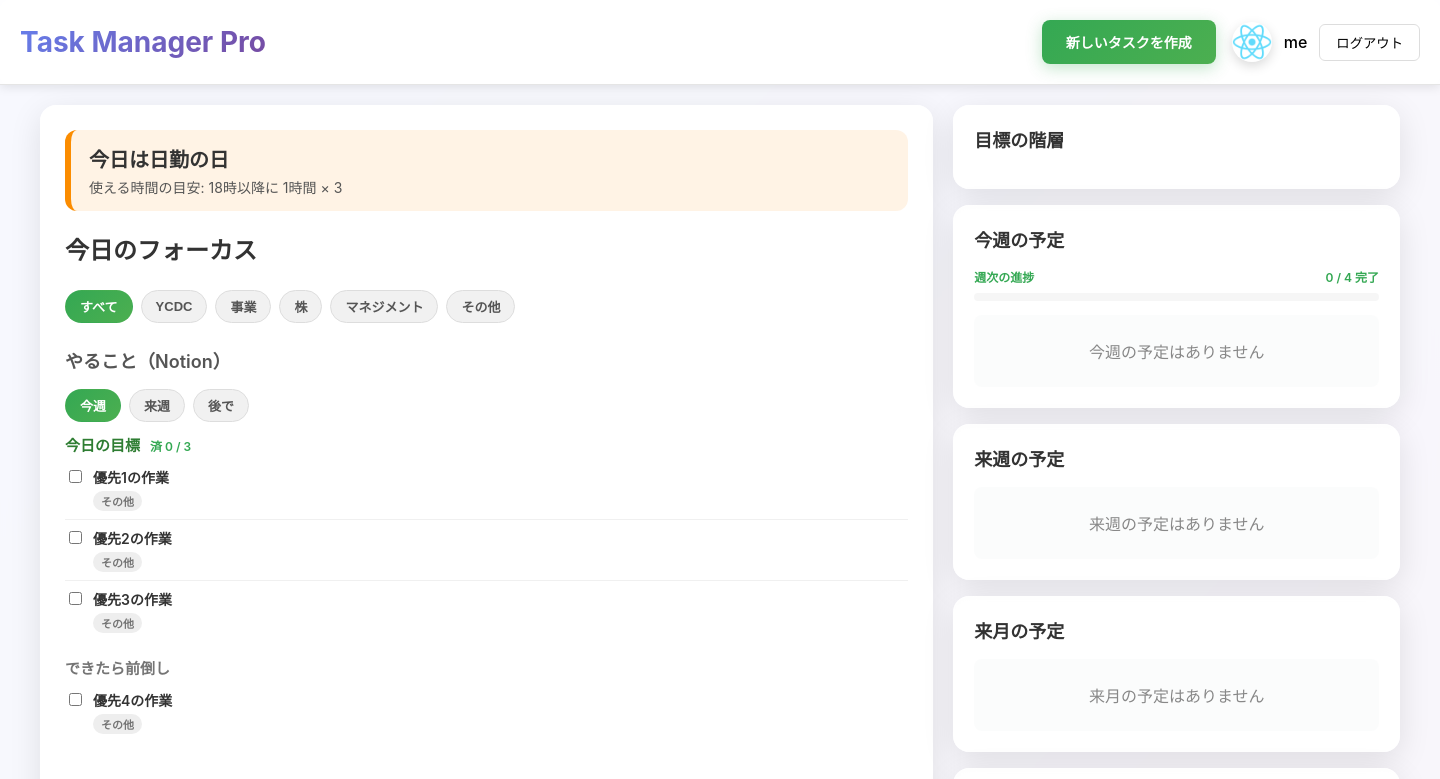
Test: checking rows: a checked row stays in 今日の目標 as done; finishing a 前倒し row counts toward the goal and pushes the next row down
This screenshot has width=1440, height=779.
Expected: the element "今日の目標" is shown, [65,434,908,641]
Step 1. Click the checkbox named "優先1の作業" → coordinates (76, 476), box [69,470,82,483]
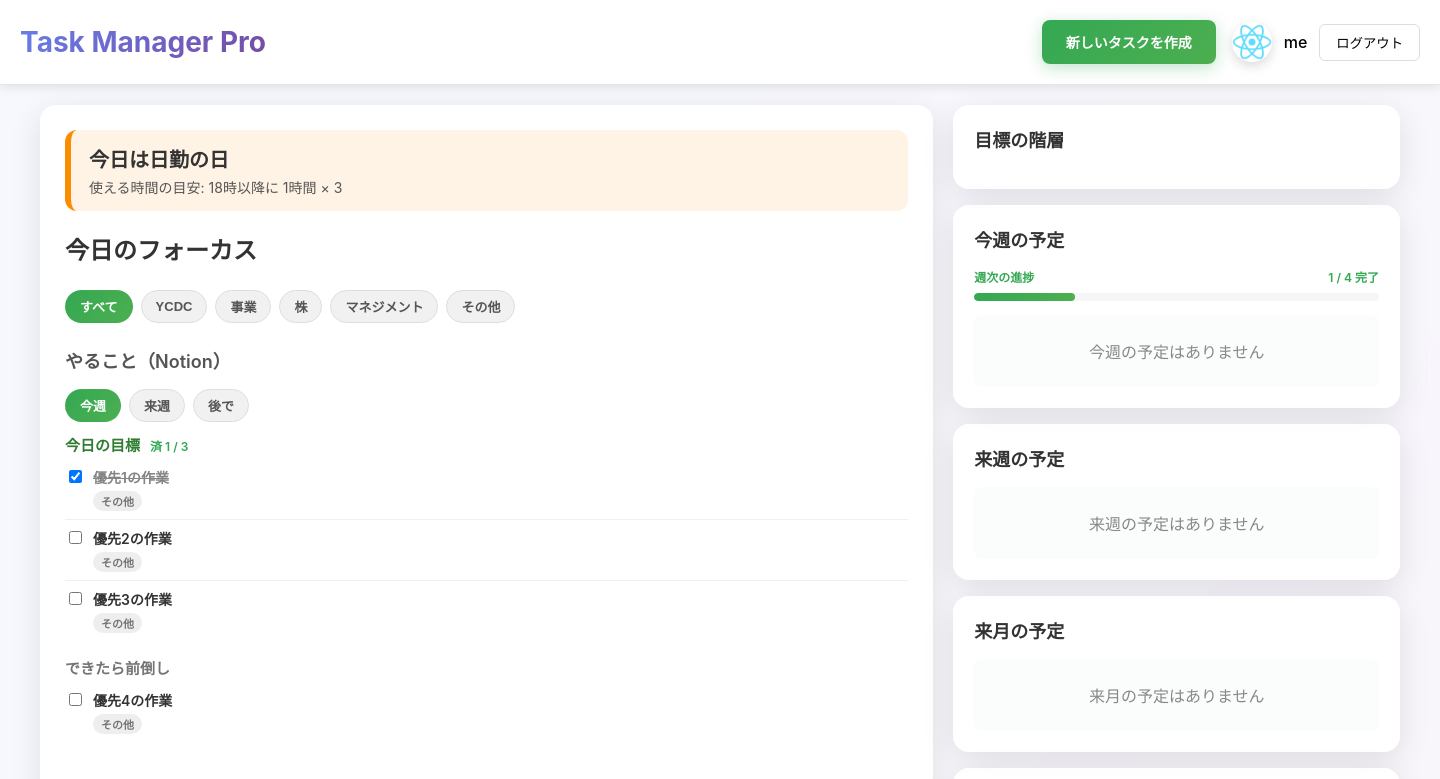
Expected: the text "今日の目標は達成" is not shown
Now the checkbox named "優先1の作業" is checked, box [69,470,82,483]
Now the text "済 1 / 3" is shown, box [150,437,188,454]
前倒しの優先4を済にする: 今日済ませた2件になり、優先3は前倒しへ
Step 2. Click the checkbox named "優先4の作業" → coordinates (76, 700), box [69,693,82,706]
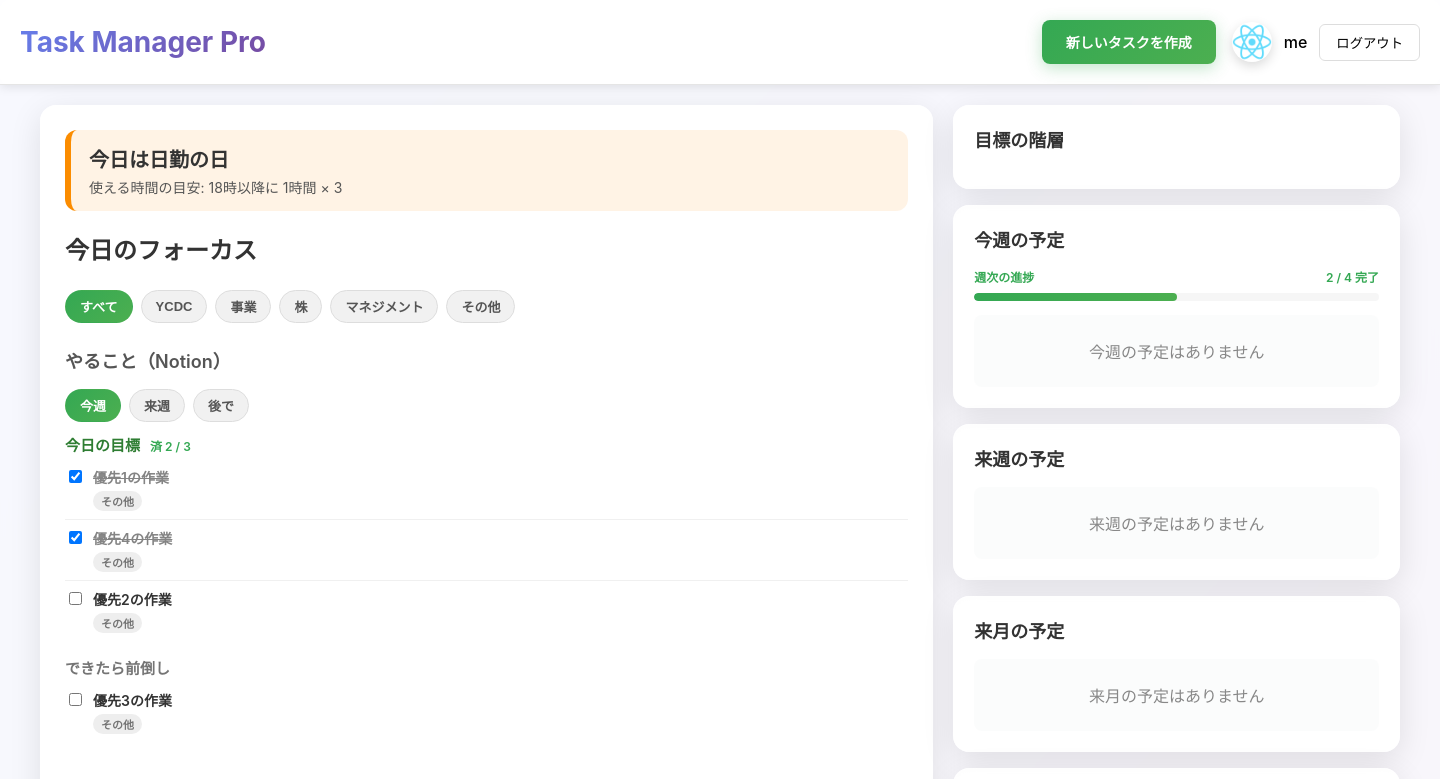
Expected: the checkbox named "優先4の作業" is enabled, [69,531,82,544]
前倒しの優先3も済にする: 今日済ませた3件で目標は達成。優先2は前倒しへ
Step 3. Click the checkbox named "優先3の作業" → coordinates (76, 700), box [69,693,82,706]
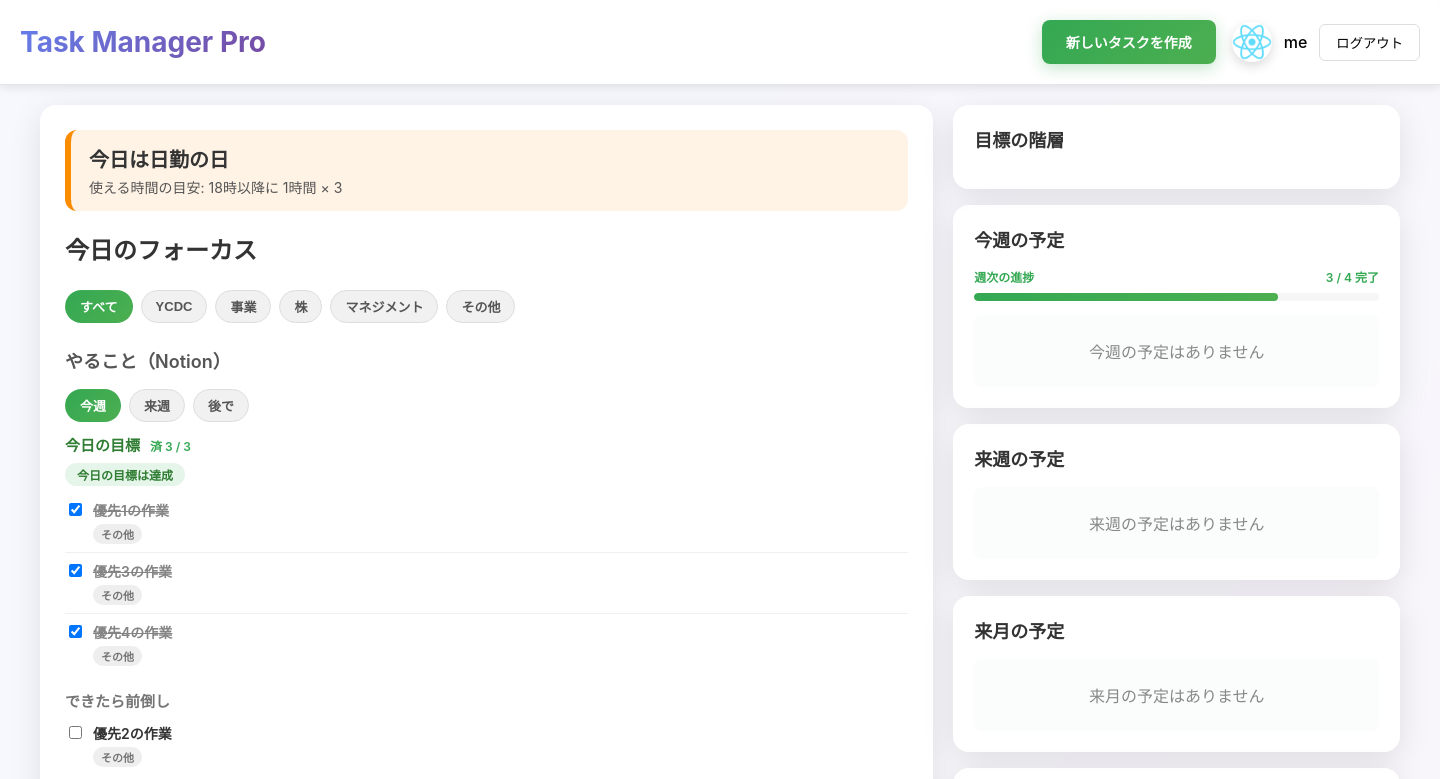
Now the text "今日の目標は達成" is shown, box [65,463,185,486]
